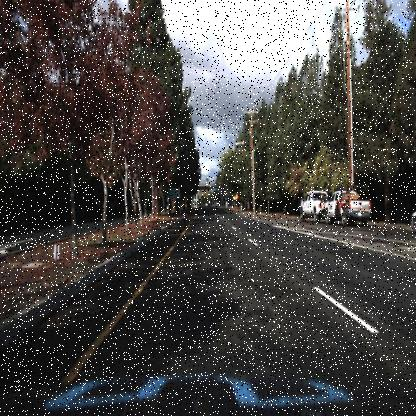car: (323, 184, 371, 225), (298, 188, 323, 226)
